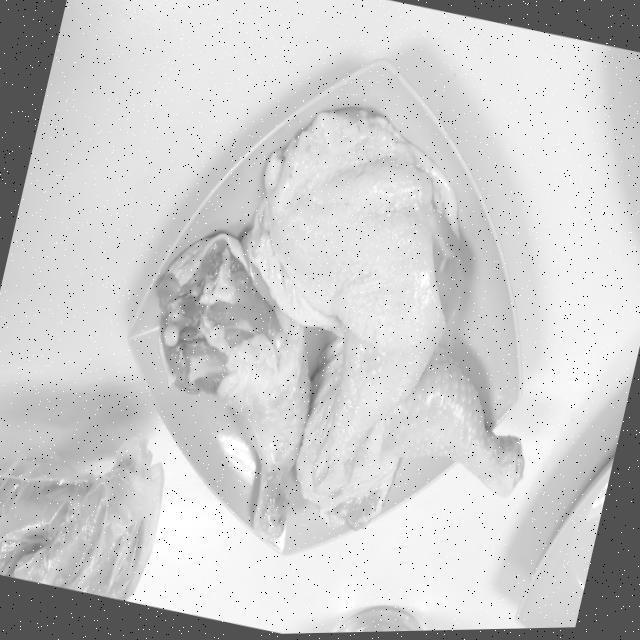quater: (248, 110, 438, 475), (150, 232, 302, 534), (301, 338, 542, 516)
